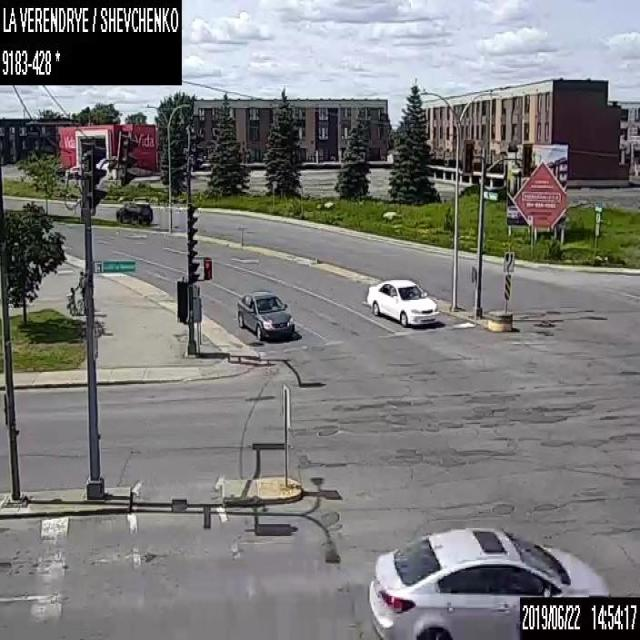vehicle: (367, 526, 611, 638), (365, 276, 438, 327), (236, 288, 294, 339), (115, 198, 154, 226)
